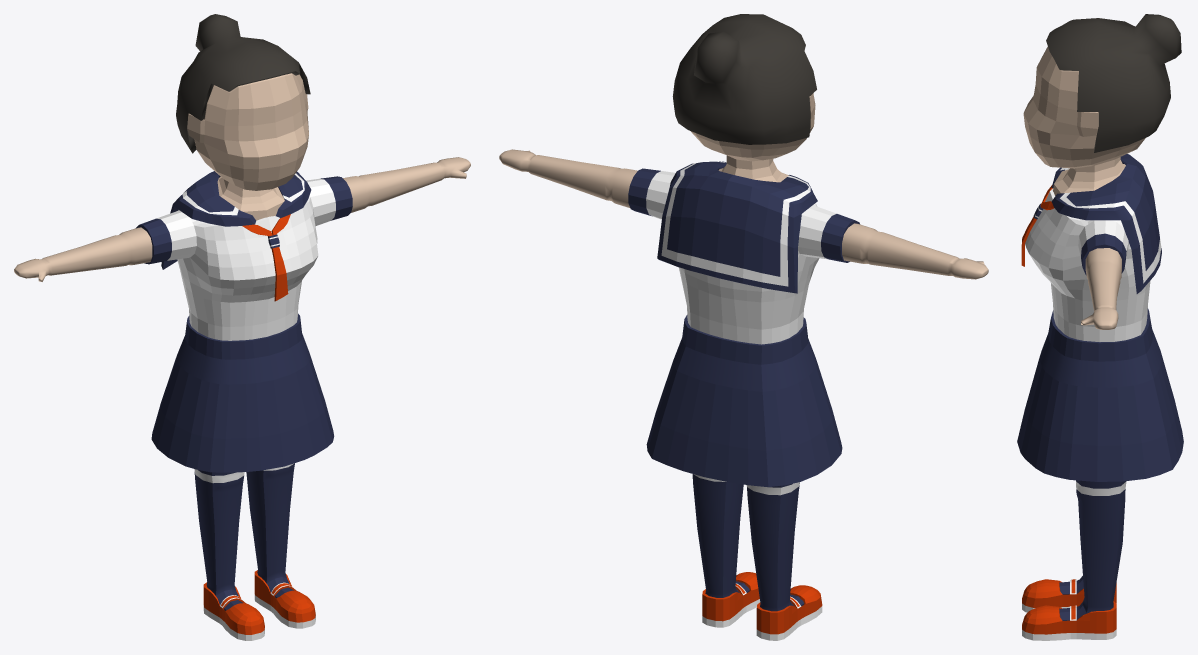
File: genevieve 1.fbx
The picture shows the model from 3 angles, left to right: view 1: azimuth 30°, elevation 25°; view 2: azimuth 150°, elevation 25°; view 3: azimuth 270°, elevation 25°; orthographic projection. The views are drawn at different scales.
Visible parts, largest first — view 1: jupe, chemise, tete, cheveux, chaussette_droite, chaussette_gauche, bras_droite, col, bras_gauche, chaussure_gauche, chaussure_droite; view 2: jupe, cheveux, col, chemise, chaussette_droite, chaussette_gauche, bras_droite, bras_gauche, tete, chaussure_droite, chaussure_gauche; view 3: jupe, cheveux, chemise, tete, col, chaussette_gauche, chaussure_gauche, bras_gauche, chaussure_droite.
Boxes of the visible parts, left/top/right/bottom form: jupe: left=151, top=313, right=334, bottom=472; chemise: left=136, top=176, right=352, bottom=340; tete: left=187, top=73, right=308, bottom=220; cheveux: left=176, top=14, right=310, bottom=153; chaussette_droite: left=194, top=469, right=244, bottom=610; chaussette_gauche: left=246, top=463, right=294, bottom=598; bras_droite: left=14, top=227, right=152, bottom=281; col: left=161, top=171, right=311, bottom=269; bras_gauche: left=343, top=157, right=470, bottom=212; chaussure_gauche: left=254, top=570, right=315, bottom=628; chaussure_droite: left=203, top=582, right=264, bottom=640; jupe: left=646, top=315, right=842, bottom=487; cheveux: left=672, top=14, right=816, bottom=144; col: left=657, top=161, right=817, bottom=293; chemise: left=628, top=168, right=859, bottom=344; chaussette_droite: left=746, top=482, right=804, bottom=611; chaussette_gauche: left=692, top=474, right=749, bottom=597; bras_droite: left=842, top=223, right=988, bottom=279; bras_gauche: left=499, top=149, right=637, bottom=207; tete: left=690, top=93, right=815, bottom=182; chaussure_droite: left=756, top=585, right=822, bottom=640; chaussure_gauche: left=702, top=572, right=760, bottom=627; jupe: left=1017, top=308, right=1183, bottom=481; cheveux: left=1046, top=14, right=1181, bottom=152; chemise: left=1025, top=188, right=1150, bottom=341; tete: left=1023, top=46, right=1145, bottom=195; col: left=1051, top=154, right=1161, bottom=293; chaussette_gauche: left=1059, top=480, right=1126, bottom=620; chaussure_gauche: left=1022, top=601, right=1116, bottom=640; bras_gauche: left=1081, top=248, right=1121, bottom=329; chaussure_droite: left=1022, top=579, right=1116, bottom=612.
Bounding box in the file's own units: 10.18 × 12.31 × 3.08.
